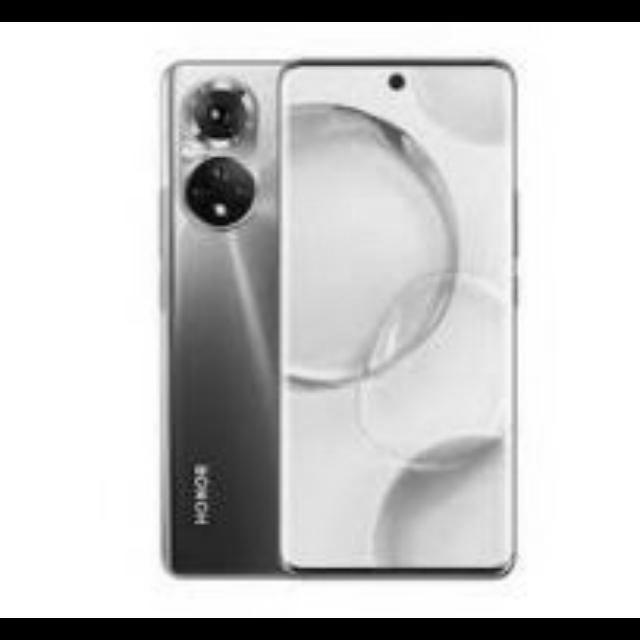fake: (251, 52, 510, 581), (164, 46, 284, 582)
